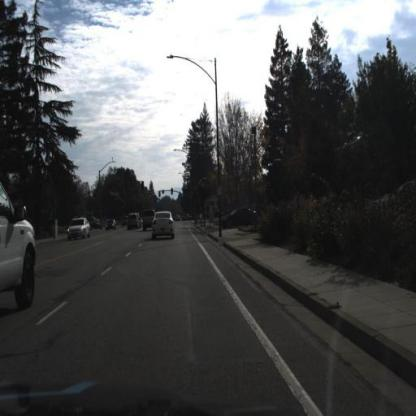car: (217, 203, 259, 229), (153, 210, 177, 240), (66, 218, 91, 241), (142, 209, 156, 232), (128, 211, 141, 231), (104, 218, 116, 231)
truck: (3, 156, 43, 316)
